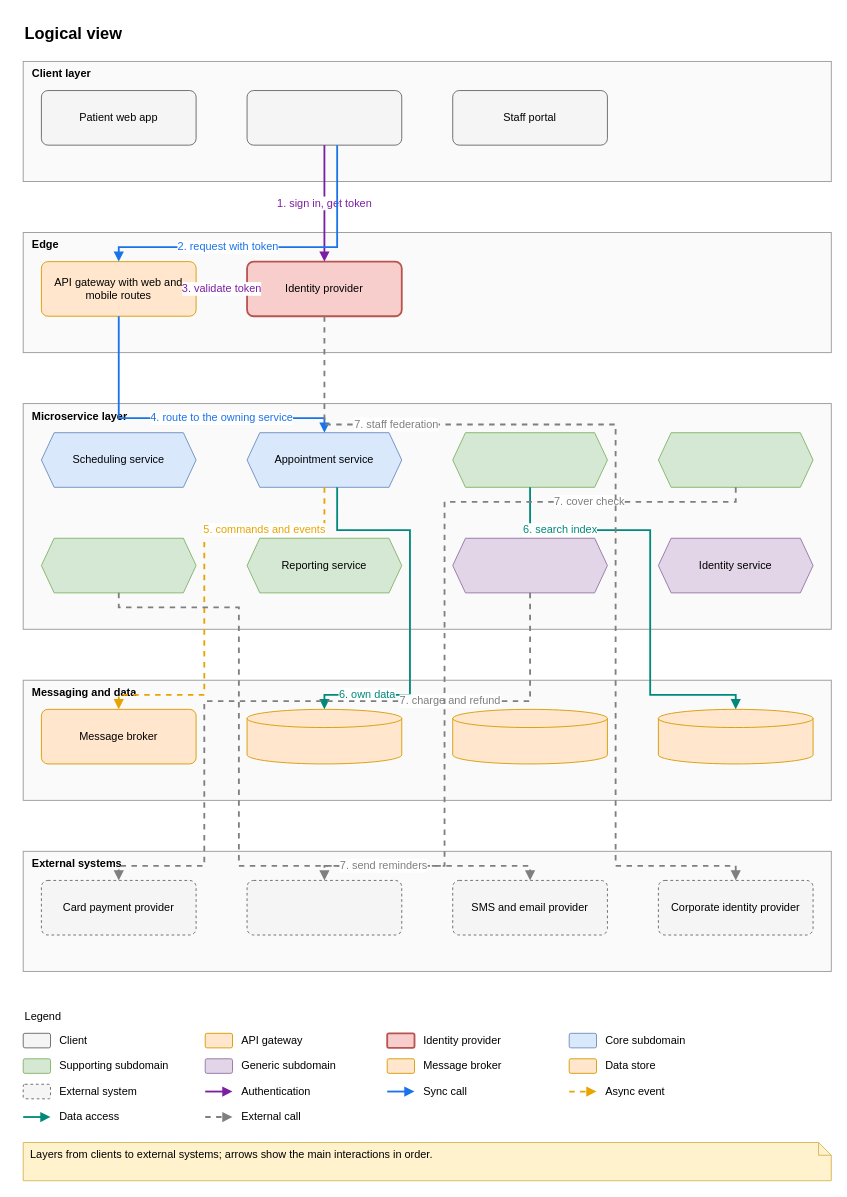
This 847x1197 diagram has some shape labels left out. The shapes that lost their labels are listed below. From the top down, each one's centre as x and y in pixels, then its label:
At point 324,117: "Patient mobile app".
At point 529,459: "Directory service".
At point 735,459: "Insurance service".
At point 118,565: "Notification service".
At point 529,565: "Payment service".
At point 324,736: "Database per service".
At point 529,736: "Cache".
At point 735,736: "Search index".
At point 324,907: "Insurer API".
